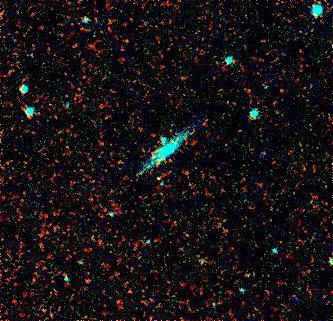star: (138, 161, 168, 191)
